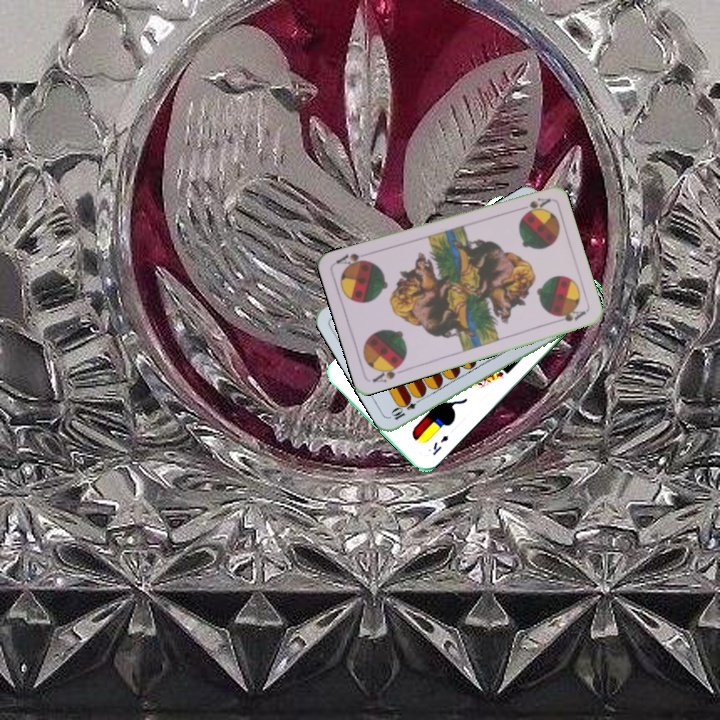E10: (387, 393, 425, 423)
EK: (428, 431, 451, 458)
SA: (368, 359, 408, 385), (513, 194, 552, 214)
